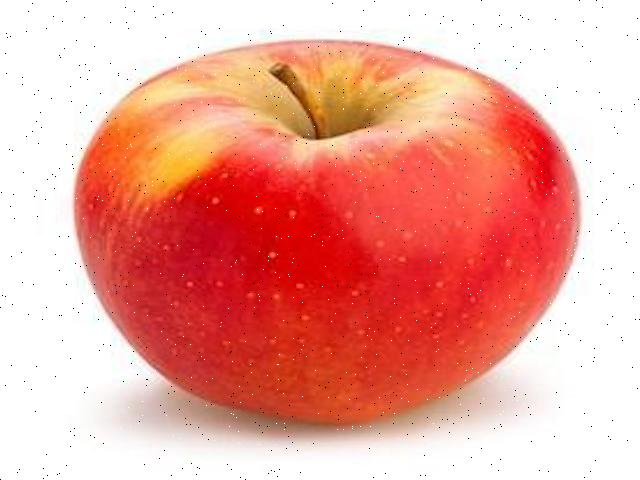apple: (66, 33, 584, 428)
